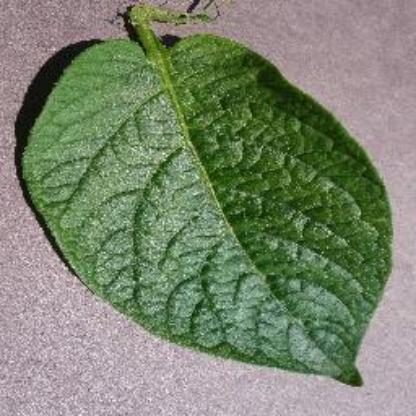Healthy-plant: (26, 20, 393, 404)
